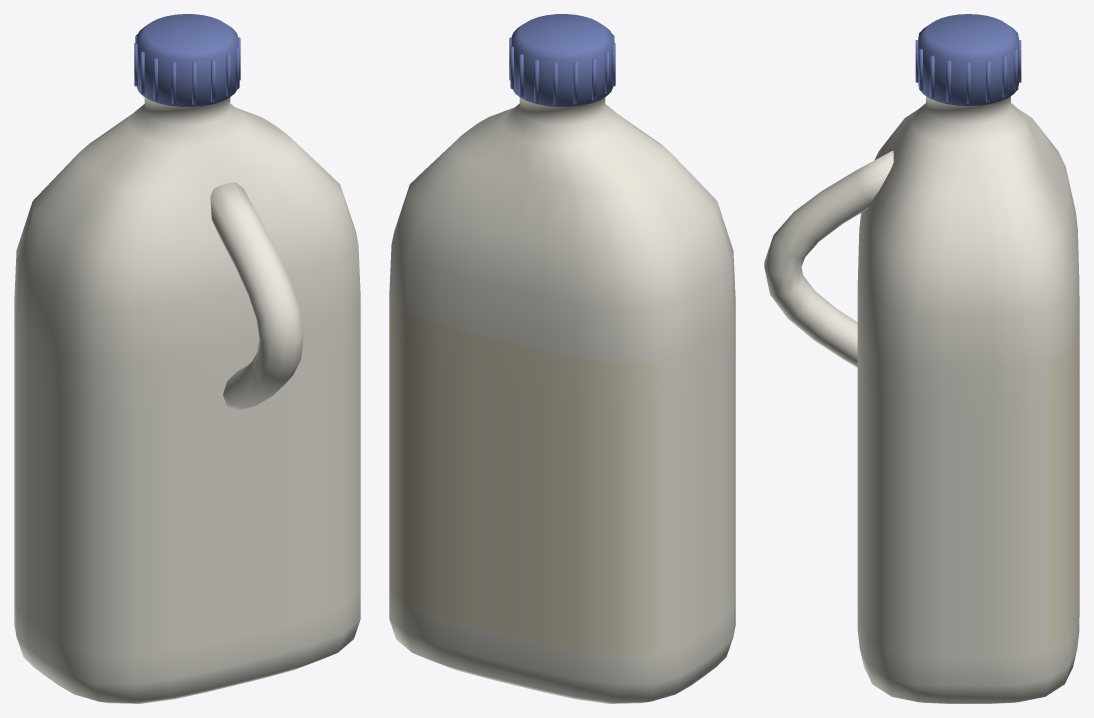
Rendered from js_jug_0.glb.
3 renders of one model, left to right at view 1: azimuth 30°, elevation 25°; view 2: azimuth 150°, elevation 25°; view 3: azimuth 270°, elevation 25°, orthographic.
Parts seen in each view (by area): view 1: js_jug_0; view 2: js_jug_0; view 3: js_jug_0.
Boxes of the visible parts, x1,y1,x2,y2 form: js_jug_0: (14, 14, 360, 703); js_jug_0: (389, 14, 735, 703); js_jug_0: (764, 14, 1079, 703).
Size of the model in its own units: 0.15 by 0.301 by 0.1406.
